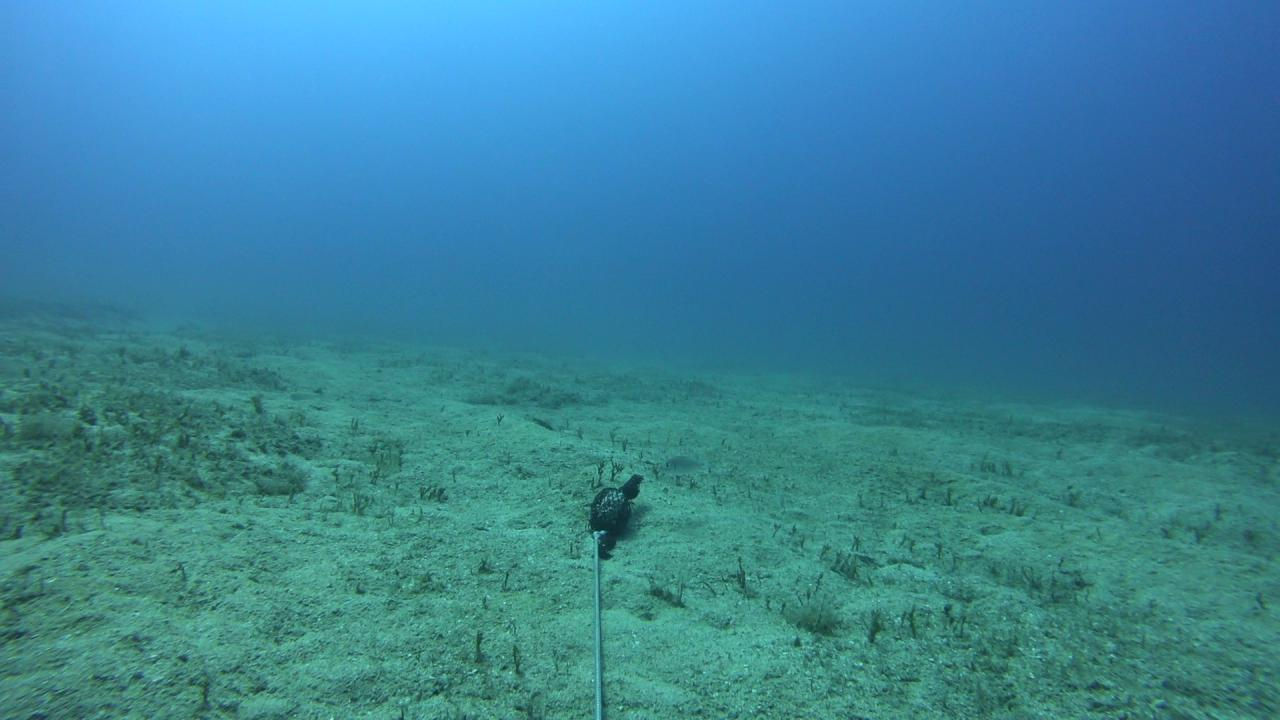pagellus: (657, 455, 715, 474)
